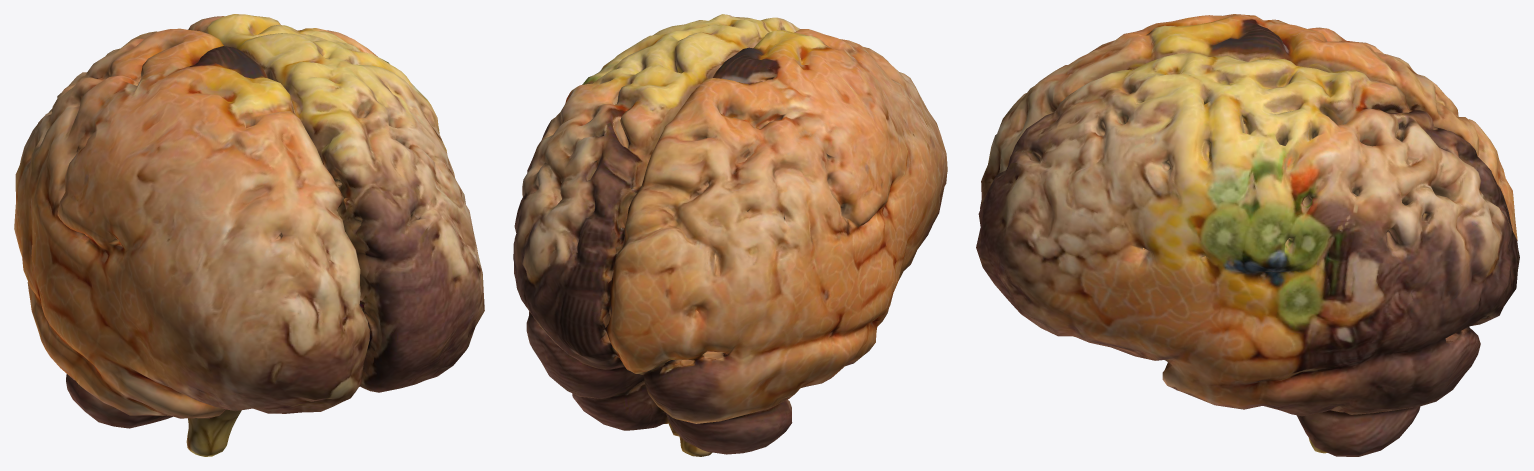
Rendered from brain.glb.
3 renders of one model, left to right at view 1: azimuth 30°, elevation 25°; view 2: azimuth 150°, elevation 25°; view 3: azimuth 270°, elevation 25°, orthographic. The views are drawn at different scales.
Visible parts, largest first — view 1: Mesh0; view 2: Mesh0; view 3: Mesh0.
Part boxes in pixels (left/top/right/bottom): Mesh0: left=14, top=14, right=484, bottom=456; Mesh0: left=513, top=14, right=947, bottom=456; Mesh0: left=976, top=14, right=1519, bottom=456.
Bounding box in the file's own units: 1.45 × 1.66 × 2.
Materials: 1 (1 with a texture image).
